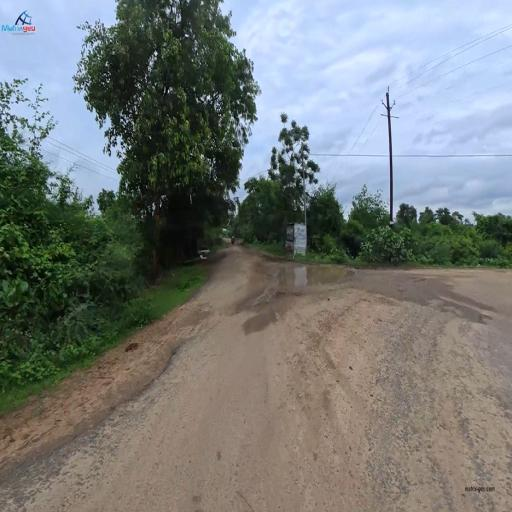ravelling: (366, 299, 478, 464)
